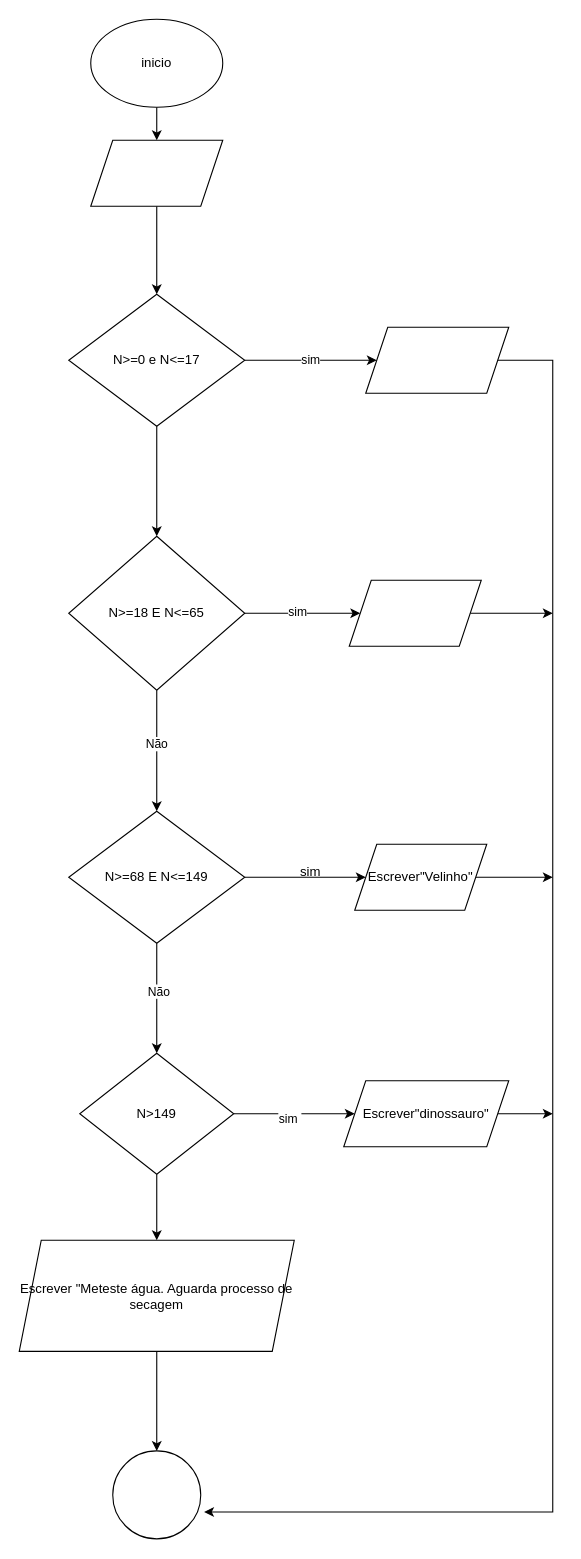
The diagram is 581 pixels wide and 1559 high, and some of its shapes have lost their labels. Each missing label, with the centre of its shape:
escrever "adulto": (414,612)
Escrever"puto": (437,359)
Fim: (156,1494)
ler N: (156,172)
